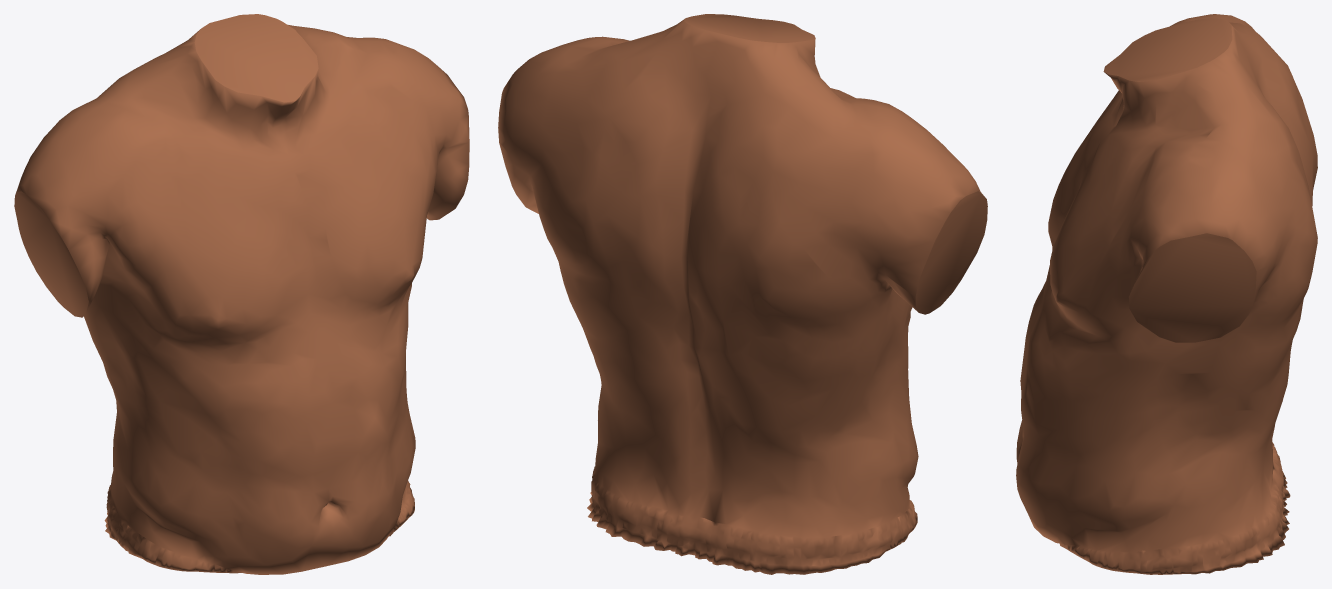
The model's file is Auscultation_Torso_v1.glb.
3 views of the same model, side by side, from view 1: azimuth 30°, elevation 25°; view 2: azimuth 150°, elevation 25°; view 3: azimuth 270°, elevation 25° (orthographic). The views are drawn at different scales.
Parts seen in each view (by area): view 1: stone 2; view 2: stone 2; view 3: stone 2.
Boxes of the visible parts, left/top/right/bottom form: stone 2: left=14, top=14, right=469, bottom=574; stone 2: left=498, top=14, right=987, bottom=574; stone 2: left=1016, top=14, right=1317, bottom=574.
Size of the model in its own units: 2.06 by 2.2 by 1.27.
